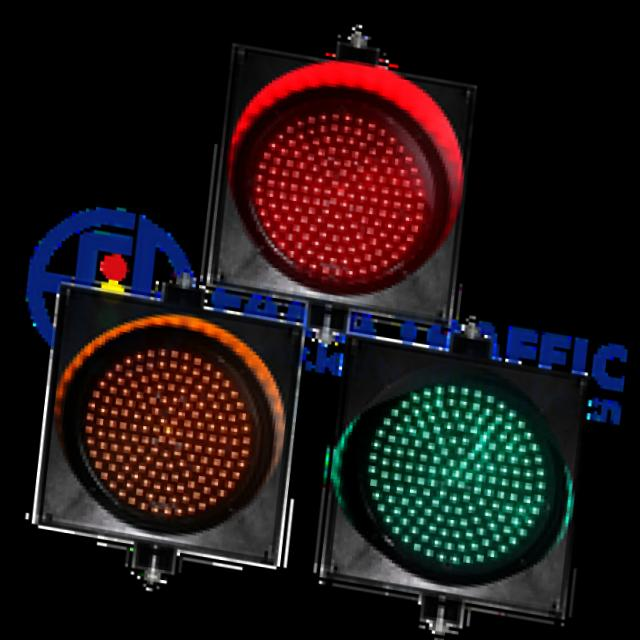green_light: (335, 314, 626, 636)
red_light: (220, 21, 532, 363)
yellow_light: (31, 251, 343, 591)
